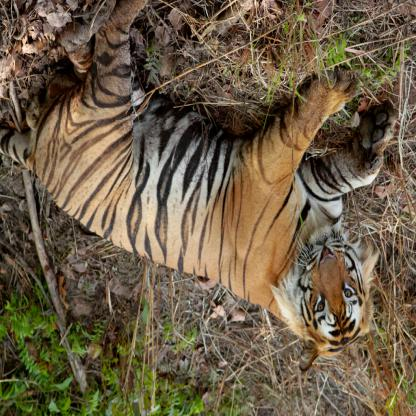tiger: (291, 207, 382, 375)
